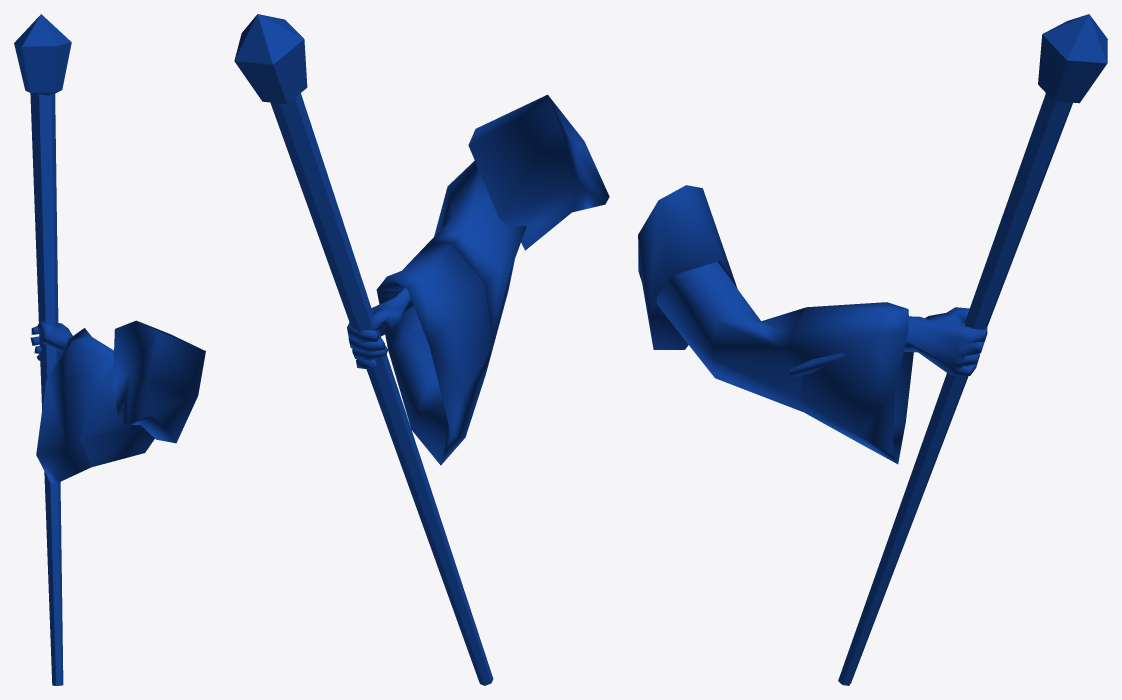
File: arm_000088.obj
The picture shows the model from 3 angles, left to right: view 1: azimuth 30°, elevation 25°; view 2: azimuth 150°, elevation 25°; view 3: azimuth 270°, elevation 25°; orthographic projection. The views are drawn at different scales.
Visible parts, largest first — view 1: Wizard.002_Plane.002; view 2: Wizard.002_Plane.002; view 3: Wizard.002_Plane.002.
Part boxes in pixels (box(x1,y1,x2,y2)): Wizard.002_Plane.002: box(14, 14, 205, 685); Wizard.002_Plane.002: box(234, 14, 609, 685); Wizard.002_Plane.002: box(638, 14, 1107, 685).
Bounding box in the file's own units: 0.3601 × 1.67 × 0.9875.
